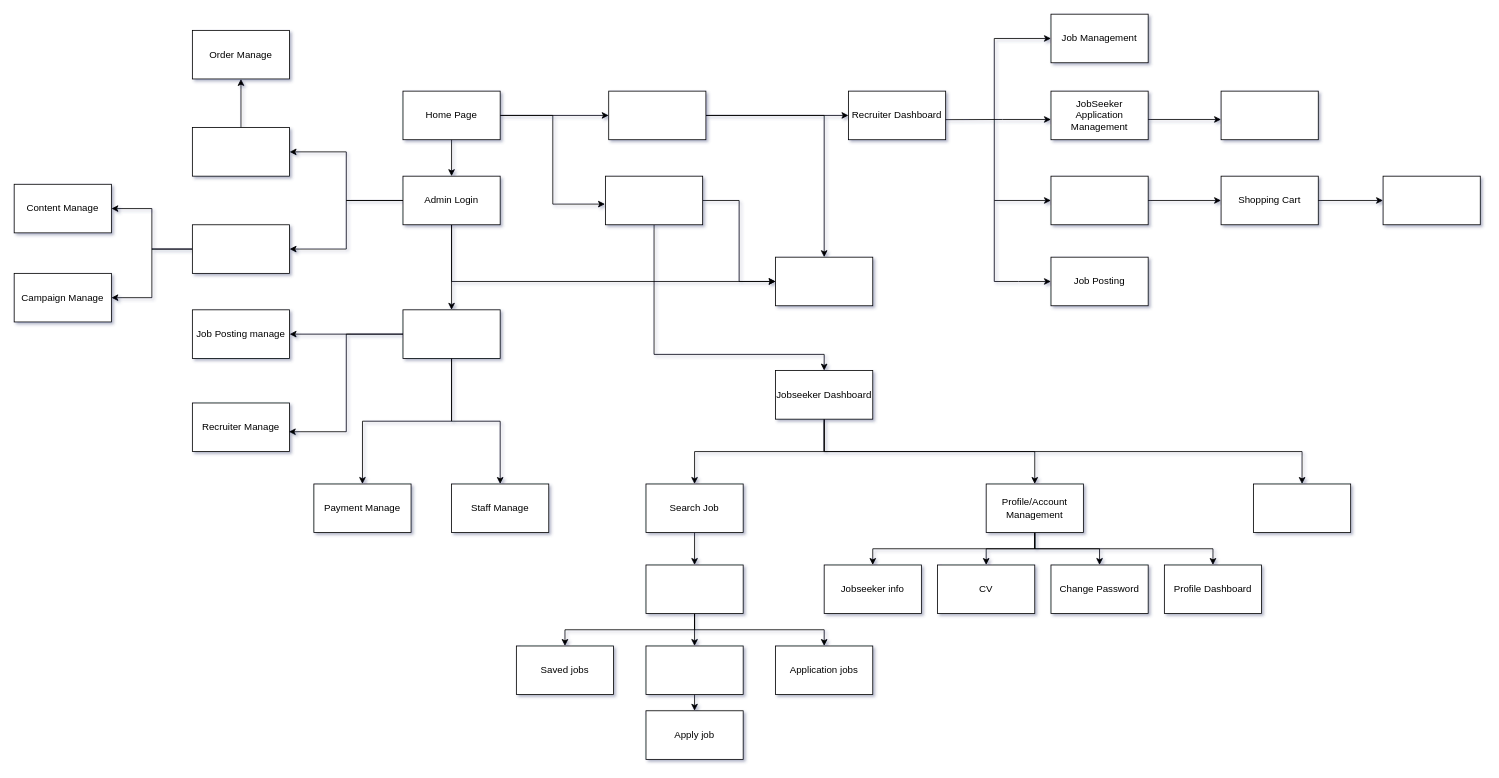
This 1499x778 diagram has some shape labels left out. The box of each missing label's shape, as (x1, y1, x2, y2) in pixels:
Admin Dashboard: (402, 309, 500, 358)
Job detail: (645, 645, 743, 695)
Job list: (645, 564, 743, 614)
Job Package: (1050, 175, 1148, 225)
Job Seeker Login: (605, 175, 703, 225)
JobSeeker Detail: (1220, 90, 1318, 140)
Marketing Staff Dashboard: (192, 224, 290, 273)
Message/Natifications: (1253, 483, 1351, 533)
Payment: (1382, 175, 1480, 225)
Recruiter Login: (608, 90, 706, 140)
Reset Password: (775, 256, 873, 306)
Sales Dashboard: (192, 127, 290, 176)
